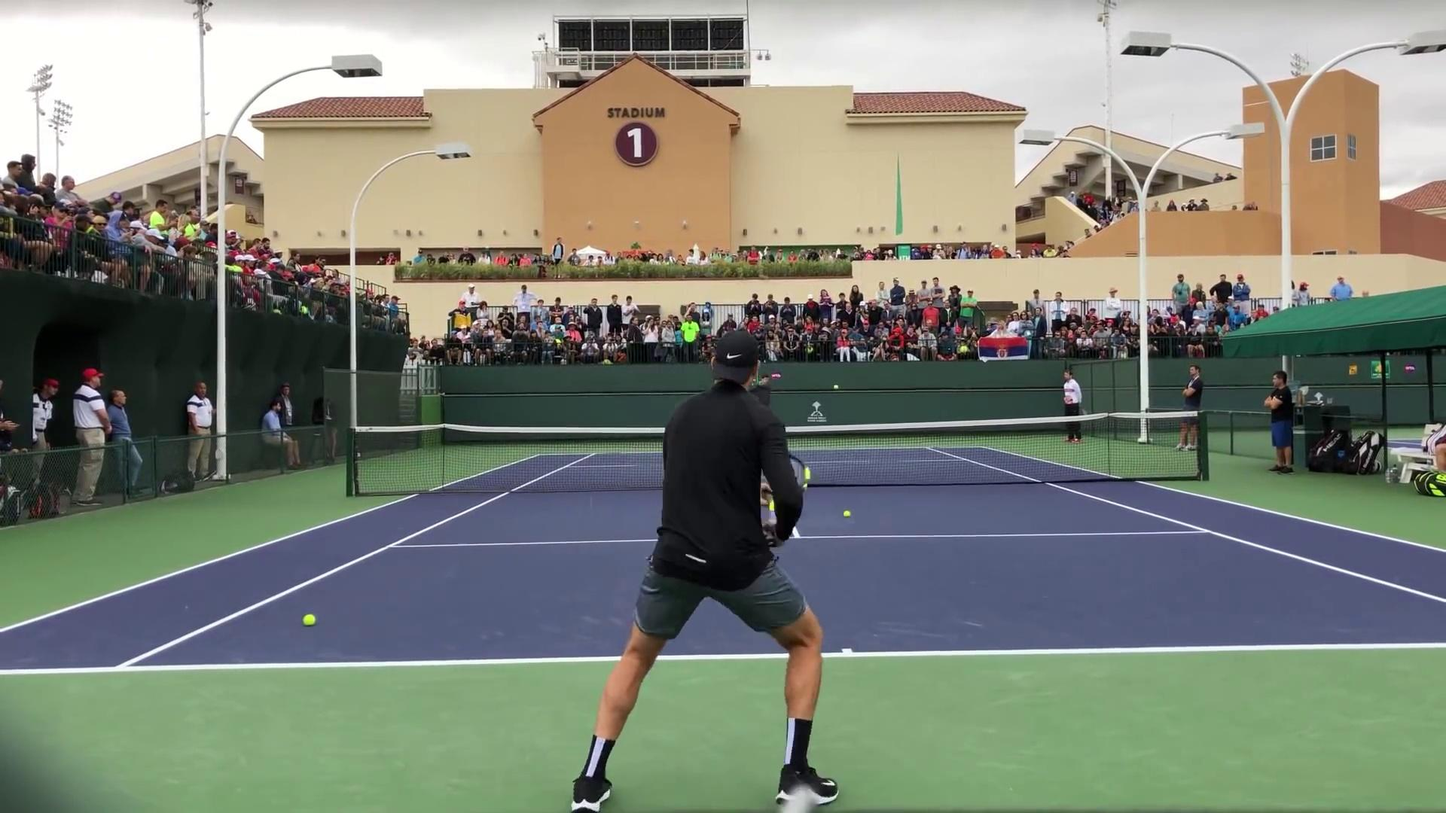ball: (302, 614, 316, 626), (842, 510, 851, 518), (833, 382, 839, 390)
